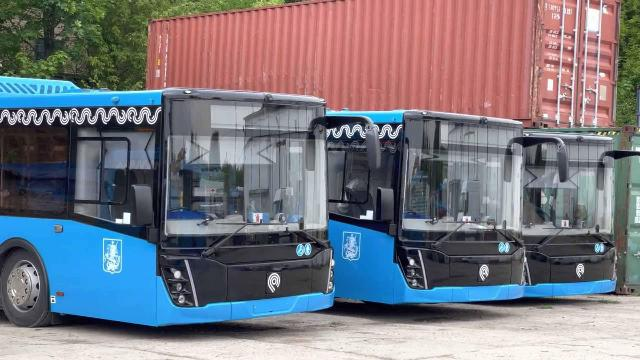bus: (0, 74, 336, 337), (331, 107, 529, 309), (513, 129, 623, 299)
